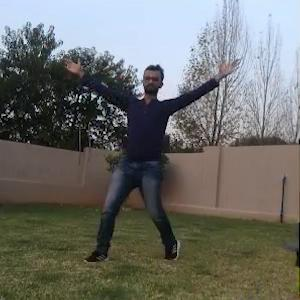takeoff: (112, 74, 276, 262)
